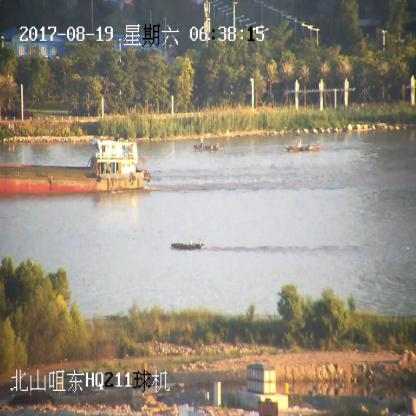Fishing Boat: (285, 139, 320, 153), (171, 241, 204, 250), (195, 139, 218, 151)
